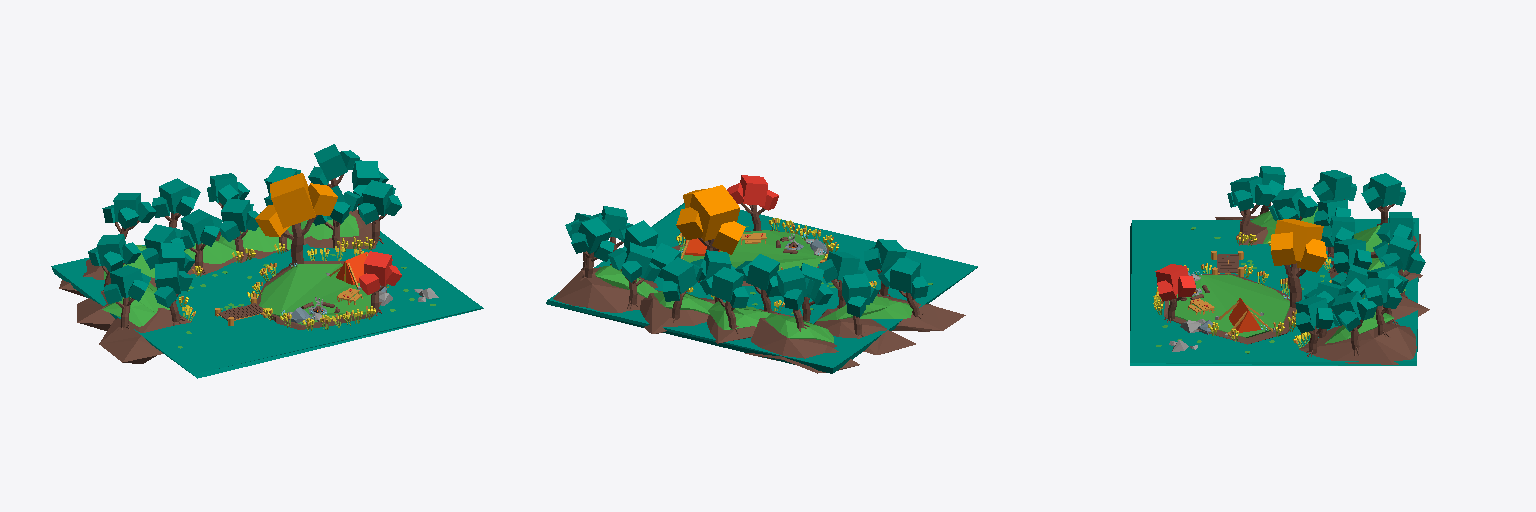
The picture shows the model from 3 angles: view 1: azimuth 30°, elevation 25°; view 2: azimuth 150°, elevation 25°; view 3: azimuth 270°, elevation 25°; orthographic projection.
Visible parts, largest first — view 1: group[number redacted], group[number redacted], group[number redacted], group[number redacted], group[number redacted], group[number redacted], group[number redacted], group[number redacted], group[number redacted], group[number redacted], group[number redacted], group[number redacted] (+16 smaller); view 2: group[number redacted], group[number redacted], group[number redacted], group[number redacted], group[number redacted], group[number redacted], group[number redacted], group[number redacted], group[number redacted], group[number redacted], group[number redacted], group[number redacted] (+17 smaller); view 3: group[number redacted], group[number redacted], group[number redacted], group[number redacted], group[number redacted], group[number redacted], group[number redacted], group[number redacted], group[number redacted], group[number redacted], group[number redacted], group[number redacted] (+12 smaller).
Boxes of the visible parts, x1=… form: group[number redacted]: x1=51, y1=230, x2=483, y2=378; group[number redacted]: x1=255, y1=173, x2=337, y2=265; group[number redacted]: x1=259, y1=263, x2=371, y2=324; group[number redacted]: x1=99, y1=308, x2=191, y2=363; group[number redacted]: x1=104, y1=265, x2=150, y2=330; group[number redacted]: x1=358, y1=180, x2=401, y2=244; group[number redacted]: x1=152, y1=178, x2=200, y2=227; group[number redacted]: x1=88, y1=234, x2=141, y2=293; group[number redacted]: x1=180, y1=209, x2=222, y2=274; group[number redacted]: x1=102, y1=193, x2=156, y2=238; group[number redacted]: x1=359, y1=251, x2=401, y2=315; group[number redacted]: x1=154, y1=262, x2=192, y2=325; group[number redacted]: x1=546, y1=203, x2=977, y2=373; group[number redacted]: x1=676, y1=185, x2=745, y2=282; group[number redacted]: x1=553, y1=267, x2=657, y2=312; group[number redacted]: x1=680, y1=230, x2=826, y2=270; group[number redacted]: x1=745, y1=318, x2=859, y2=373; group[number redacted]: x1=814, y1=308, x2=915, y2=354; group[number redacted]: x1=571, y1=217, x2=614, y2=280; group[number redacted]: x1=608, y1=242, x2=660, y2=308; group[number redacted]: x1=699, y1=267, x2=748, y2=333; group[number redacted]: x1=878, y1=258, x2=928, y2=318; group[number redacted]: x1=727, y1=175, x2=778, y2=230; group[number redacted]: x1=662, y1=257, x2=702, y2=322; group[number redacted]: x1=1130, y1=218, x2=1418, y2=365; group[number redacted]: x1=1169, y1=274, x2=1289, y2=337; group[number redacted]: x1=1271, y1=219, x2=1326, y2=307; group[number redacted]: x1=1299, y1=322, x2=1416, y2=364; group[number redacted]: x1=1331, y1=291, x2=1376, y2=355; group[number redacted]: x1=1227, y1=177, x2=1274, y2=239; group[number redacted]: x1=1295, y1=296, x2=1333, y2=356; group[number redacted]: x1=1361, y1=173, x2=1405, y2=225; group[number redacted]: x1=1155, y1=264, x2=1195, y2=322; group[number redacted]: x1=1373, y1=235, x2=1425, y2=297; group[number redacted]: x1=1268, y1=188, x2=1317, y2=220; group[number redacted]: x1=1365, y1=278, x2=1401, y2=337.
Size of the model in its own units: 4.24 by 1.43 by 3.31.